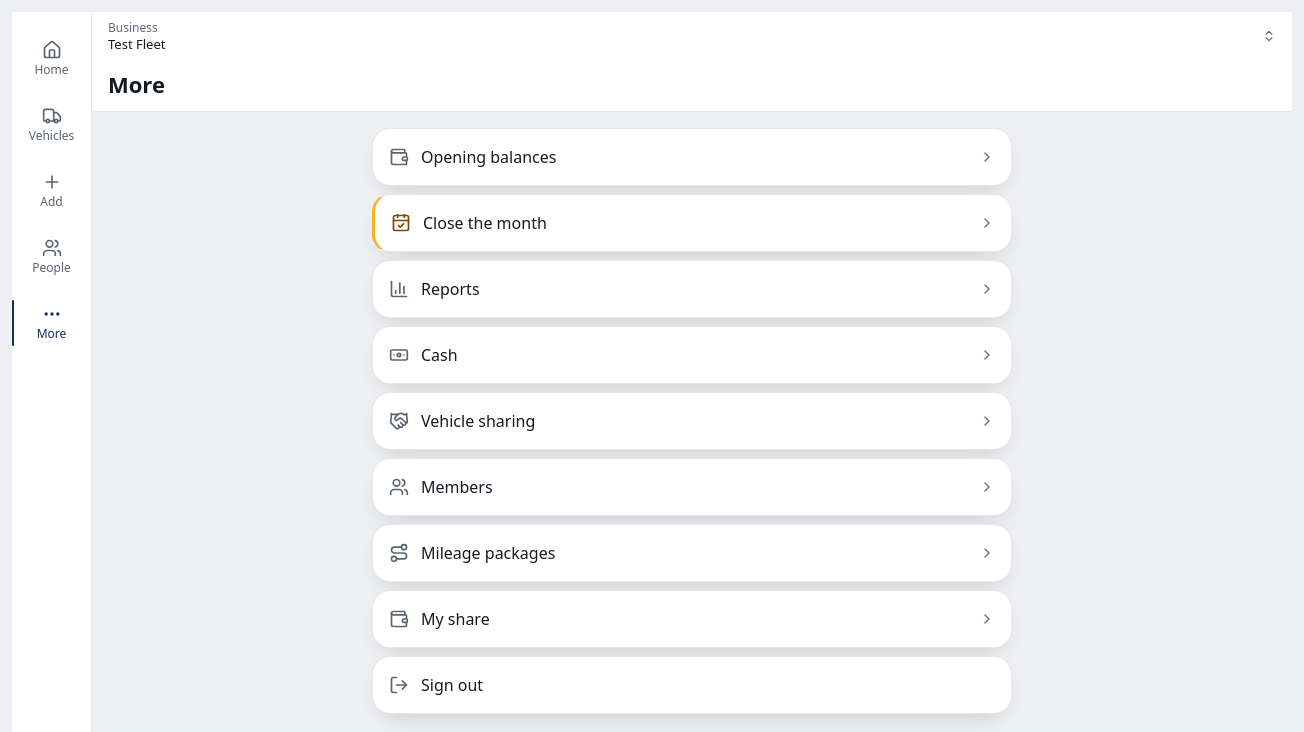
Test: B3/F-9.1 — More → Close the month reaches the real screen, not a placeholder
Click the button "Close the month": (692, 223) [372,194,1012,252]
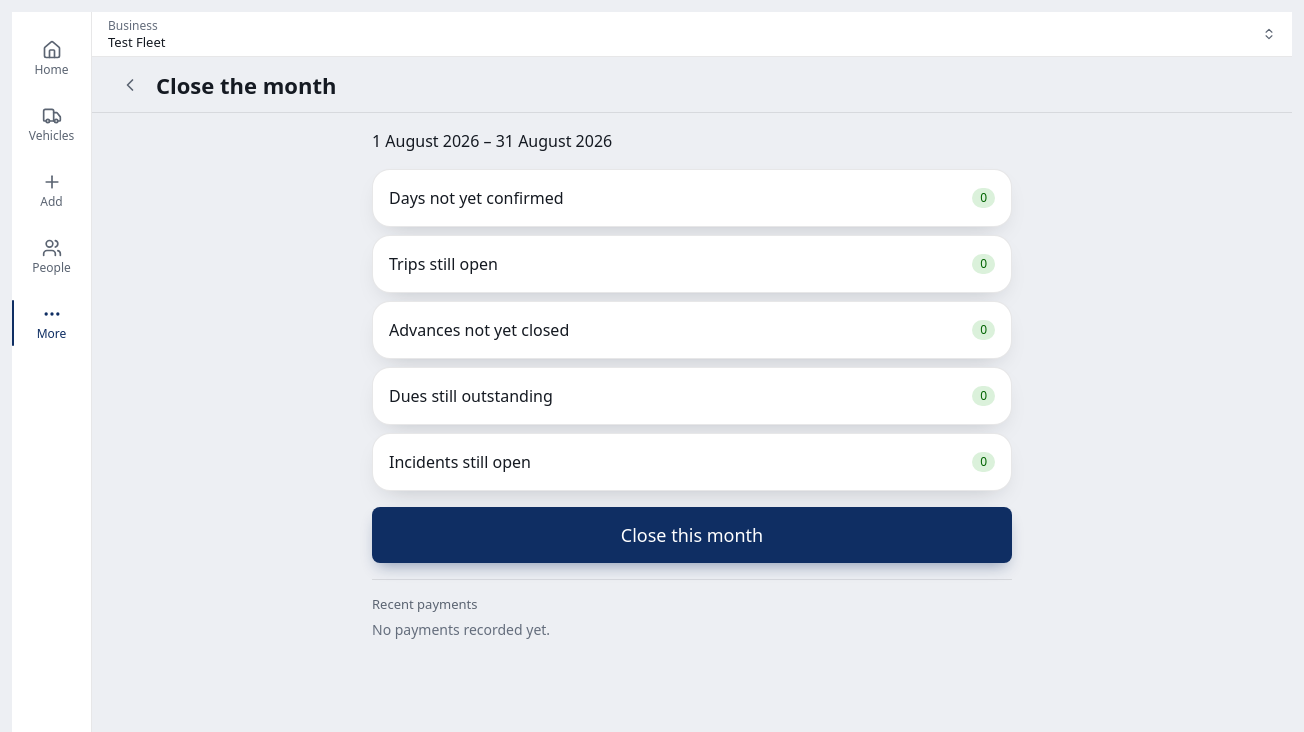
Expected: the heading "Close the month" is shown, [156,70,336,98]
